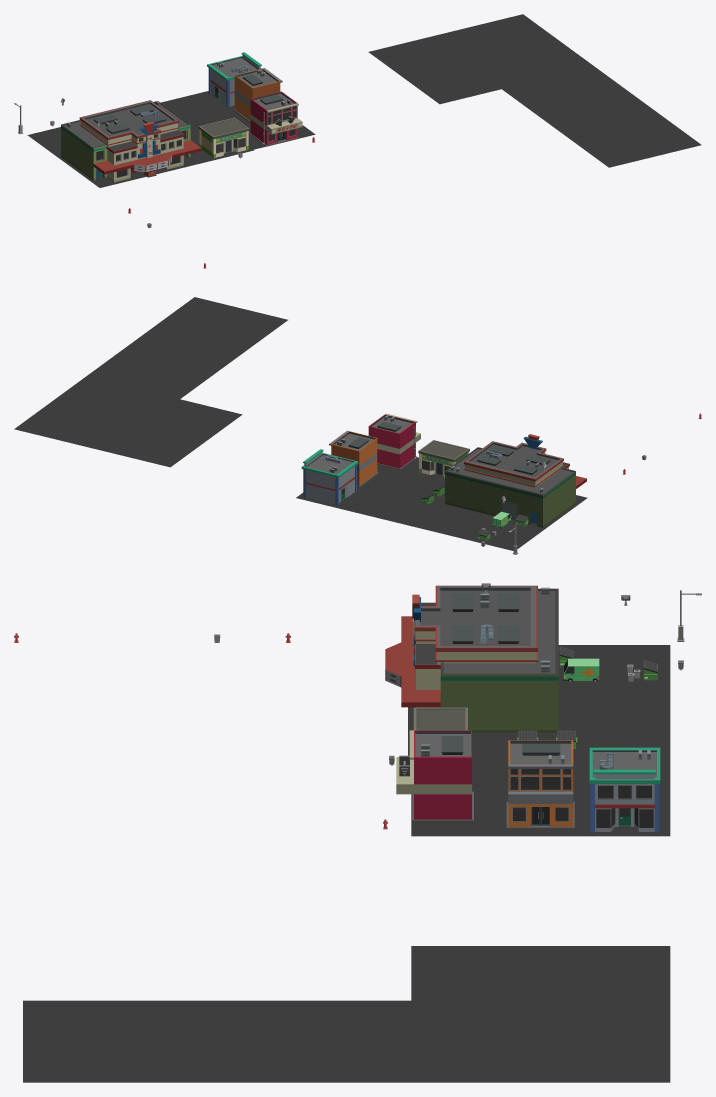
Rendered from Commercial_3_hub.FBX.
3 renders of one model, top to bottom at view 1: azimuth 30°, elevation 25°; view 2: azimuth 150°, elevation 25°; view 3: azimuth 270°, elevation 25°, orthographic. The views are drawn at different scales.
Visible parts, largest first — view 1: road_square_mesh__2_, road_square_mesh__4_, Building_Cinema, road_square_mesh__6_, Building_Gym, store_small_mesh__4_, Building_Shop_004, Building_Shop_006; view 2: road_square_mesh__2_, road_square_mesh__4_, Building_Cinema, road_square_mesh__6_, Building_Shop_004, Building_Gym, Building_Shop_006, store_small_mesh__4_; view 3: road_square_mesh__2_, road_square_mesh__4_, Building_Cinema, road_square_mesh__6_, Building_Gym, Building_Shop_006, Building_Shop_004, store_small_mesh__4_, van_seperate_green.
Boxes of the visible parts, bbox=[...] form: road_square_mesh__2_: bbox=[368, 14, 594, 104]; road_square_mesh__4_: bbox=[502, 66, 701, 167]; Building_Cinema: bbox=[61, 100, 201, 182]; road_square_mesh__6_: bbox=[27, 91, 315, 187]; Building_Gym: bbox=[249, 91, 302, 146]; store_small_mesh__4_: bbox=[198, 117, 249, 158]; Building_Shop_004: bbox=[207, 52, 261, 107]; Building_Shop_006: bbox=[233, 68, 282, 122]; road_square_mesh__2_: bbox=[14, 376, 242, 467]; road_square_mesh__4_: bbox=[86, 297, 287, 398]; Building_Cinema: bbox=[445, 434, 586, 527]; road_square_mesh__6_: bbox=[296, 457, 586, 550]; Building_Shop_004: bbox=[301, 449, 358, 505]; Building_Gym: bbox=[368, 413, 420, 469]; Building_Shop_006: bbox=[329, 430, 378, 487]; store_small_mesh__4_: bbox=[418, 440, 469, 478]; road_square_mesh__2_: bbox=[411, 946, 670, 1082]; road_square_mesh__4_: bbox=[23, 1000, 411, 1082]; Building_Cinema: bbox=[385, 585, 558, 732]; road_square_mesh__6_: bbox=[411, 645, 670, 836]; Building_Gym: bbox=[396, 730, 473, 821]; Building_Shop_006: bbox=[506, 740, 574, 829]; Building_Shop_004: bbox=[589, 747, 660, 832]; store_small_mesh__4_: bbox=[413, 707, 467, 730]; van_seperate_green: bbox=[563, 658, 599, 681].
Size of the model in its own units: 160129 by 15606 by 105240.
6 materials, 6 textured.
